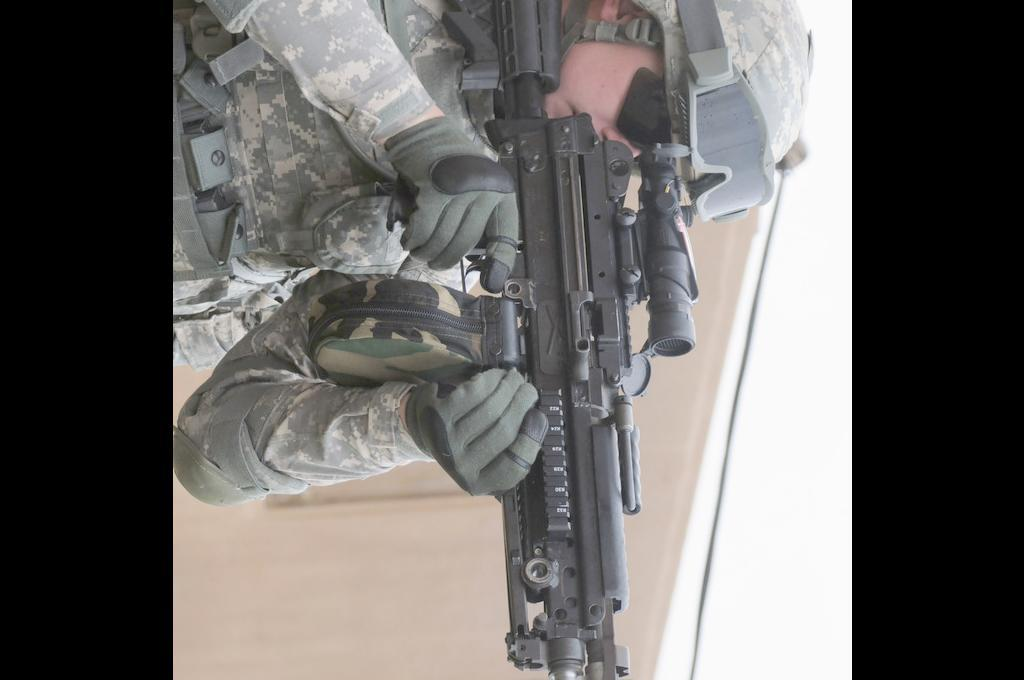gun: (440, 0, 696, 680)
